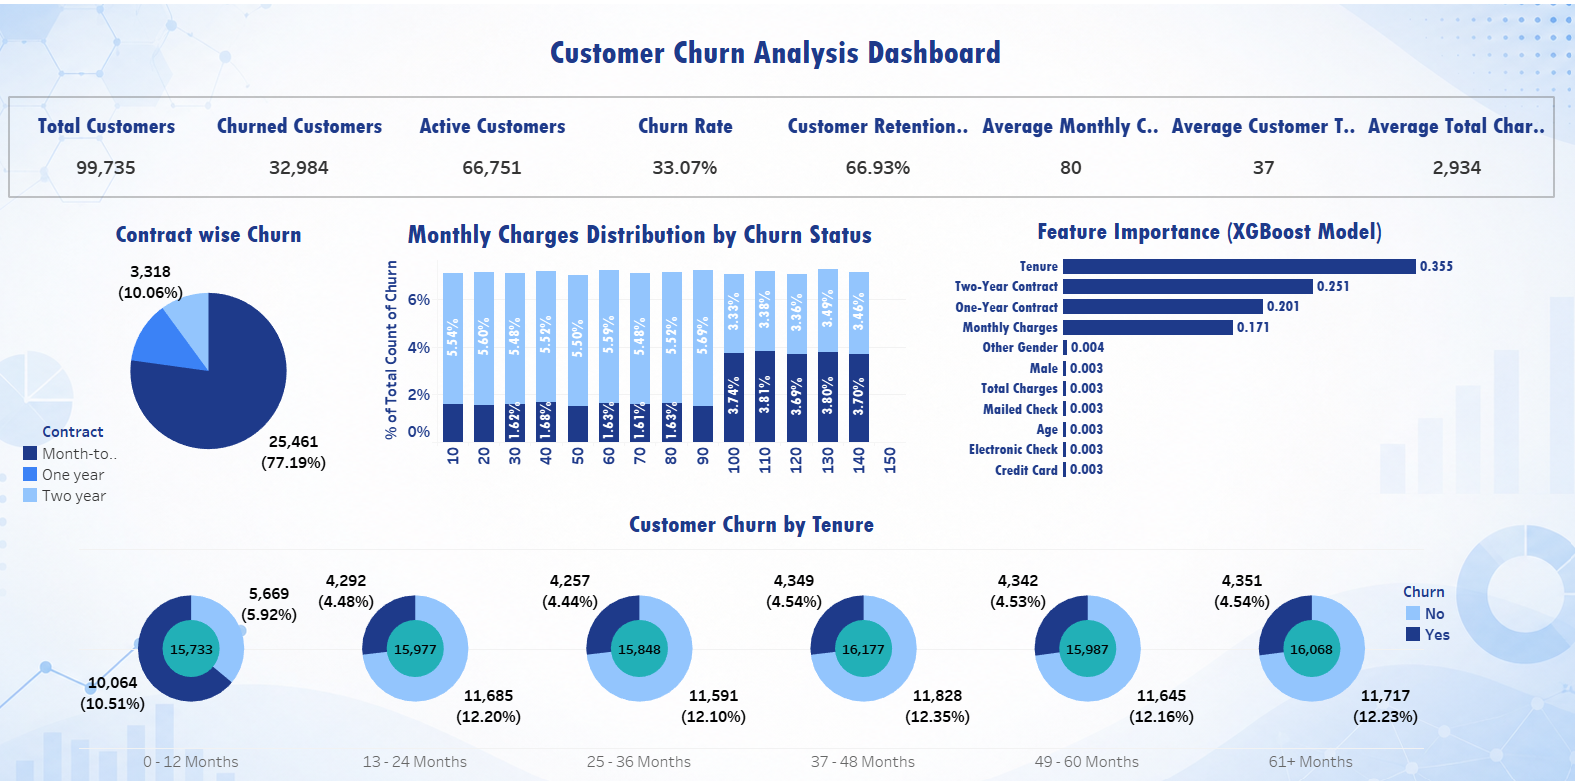

This screenshot's page, from the dashboard's own definition file:
{"tool":"tableau","page":{"name":"Dashboard 1","canvas":[1000,1000],"units":"permille","ordinal":0},"visuals":[{"type":"image","param":"Image/ChatGPT Image Aug 4, 2026, 04_00_15 PM.png","box":[5,10,990,980]},{"type":"text","box":[17.5,31.2,949.4,88.5]},{"type":"worksheet","title":"KPI","mark":"Automatic","box":[13.8,132.2,964.4,122.2]},{"type":"worksheet","title":"Feature Importance","mark":"Bar","rows":["Feature"],"cols":["Importance"],"box":[596.9,275.6,333.1,332.9]},{"type":"worksheet","title":"Monthly Charges Distribution","mark":"Bar","cols":["Monthly Charges (bin)"],"box":[240.6,278.1,333.1,332.9]},{"type":"worksheet","title":"Contract wise Churn","mark":"Pie","box":[25.6,279.3,224.4,332.9]},{"type":"legend","title":"Contract wise Churn","param":"[federated.091s4yv1g4d9sp1a28ceh0p7mrcr].[none:Contract:nk]","box":[20,534.9,66.2,106]},{"type":"worksheet","title":"Customer Churn by Tenure","mark":"Pie","rows":["Calculation_1640717669846155276","Calculation_1640717669846155276"],"cols":["Calculation_1640717669844258826"],"box":[56.9,640.9,840.6,332.9]},{"type":"legend","title":"Monthly Charges Distribution","param":"[federated.091s4yv1g4d9sp1a28ceh0p7mrcr].[none:Churn:nk]","box":[884.4,734.4,87.5,79.8]}]}

Visuals, with their boxes on the dashboard's canvas, which has no fixed pixel size, in thousandths of its width and height (x1, y1, x2, y2). These are canvas units, not pixel positions in the 1577x782 screenshot, which may show the page scaled, cropped or inside an application window:
image: bbox=(5, 10, 995, 990)
text: bbox=(18, 31, 967, 120)
"KPI" worksheet: bbox=(14, 132, 978, 254)
"Feature Importance" worksheet (Bar marks): bbox=(597, 276, 930, 608)
"Monthly Charges Distribution" worksheet (Bar marks): bbox=(241, 278, 574, 611)
"Contract wise Churn" worksheet (Pie marks): bbox=(26, 279, 250, 612)
"Contract wise Churn" legend: bbox=(20, 535, 86, 641)
"Customer Churn by Tenure" worksheet (Pie marks): bbox=(57, 641, 898, 974)
"Monthly Charges Distribution" legend: bbox=(884, 734, 972, 814)
